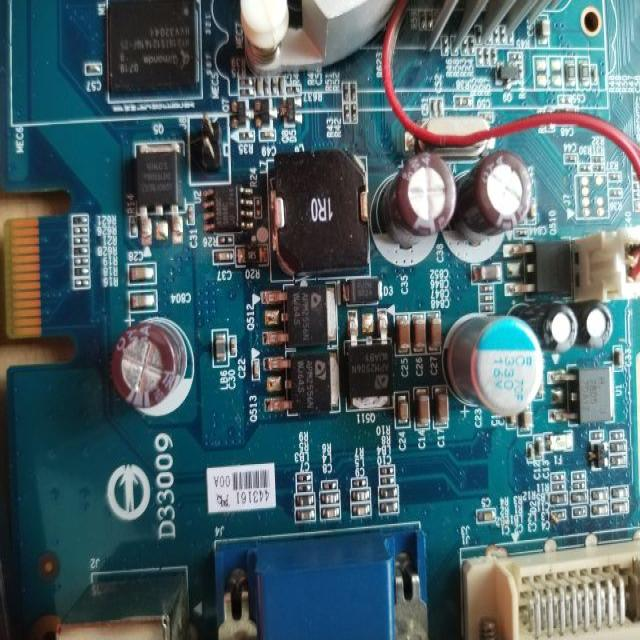capacitor: (389, 384, 418, 436), (432, 384, 459, 439), (121, 248, 167, 280), (125, 291, 175, 316)
resistor: (293, 467, 316, 487)
